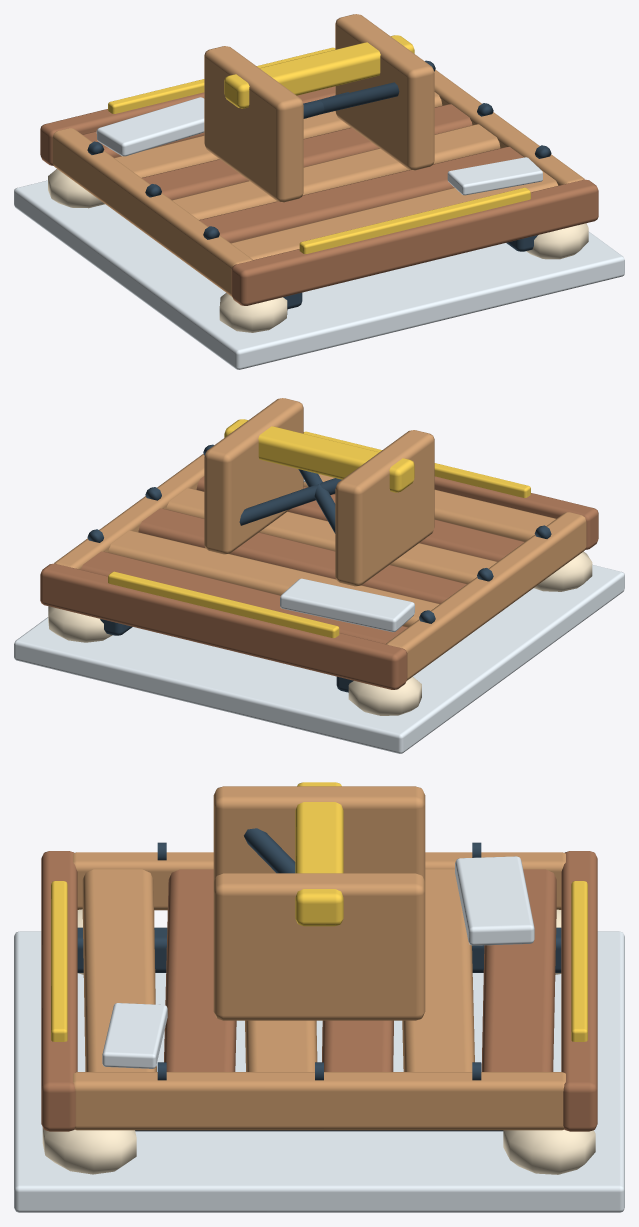
The model's file is pad_build.glb.
3 views of the same model, one above another, from view 1: azimuth 30°, elevation 25°; view 2: azimuth 150°, elevation 25°; view 3: azimuth 270°, elevation 25° (orthographic). The views are drawn at different scales.
Visible parts, largest first — view 1: pad_build; view 2: pad_build; view 3: pad_build.
Boxes of the visible parts, <box> form: pad_build: <box>14,14,624,369</box>; pad_build: <box>14,398,624,753</box>; pad_build: <box>14,782,624,1212</box>.
Size of the model in its own units: 2.02 by 0.915 by 2.02.
